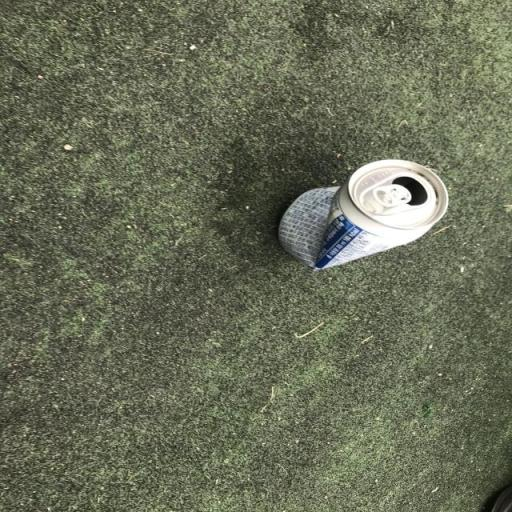metal: (258, 130, 507, 310)
